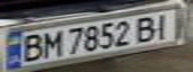2: (112, 18, 136, 47)
5: (97, 20, 118, 51)
7: (63, 25, 84, 55)
8: (81, 22, 103, 52)
B: (15, 32, 45, 63), (133, 14, 163, 43)
I: (148, 11, 178, 39)
M: (39, 29, 66, 60)
